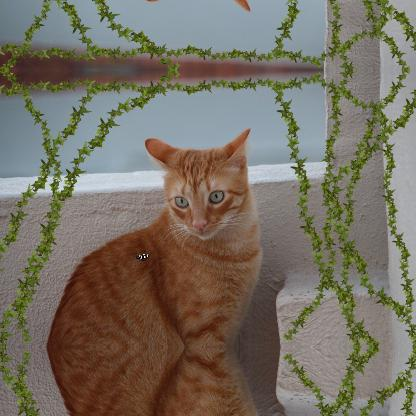Cat: (46, 126, 266, 346), (46, 346, 266, 415)
